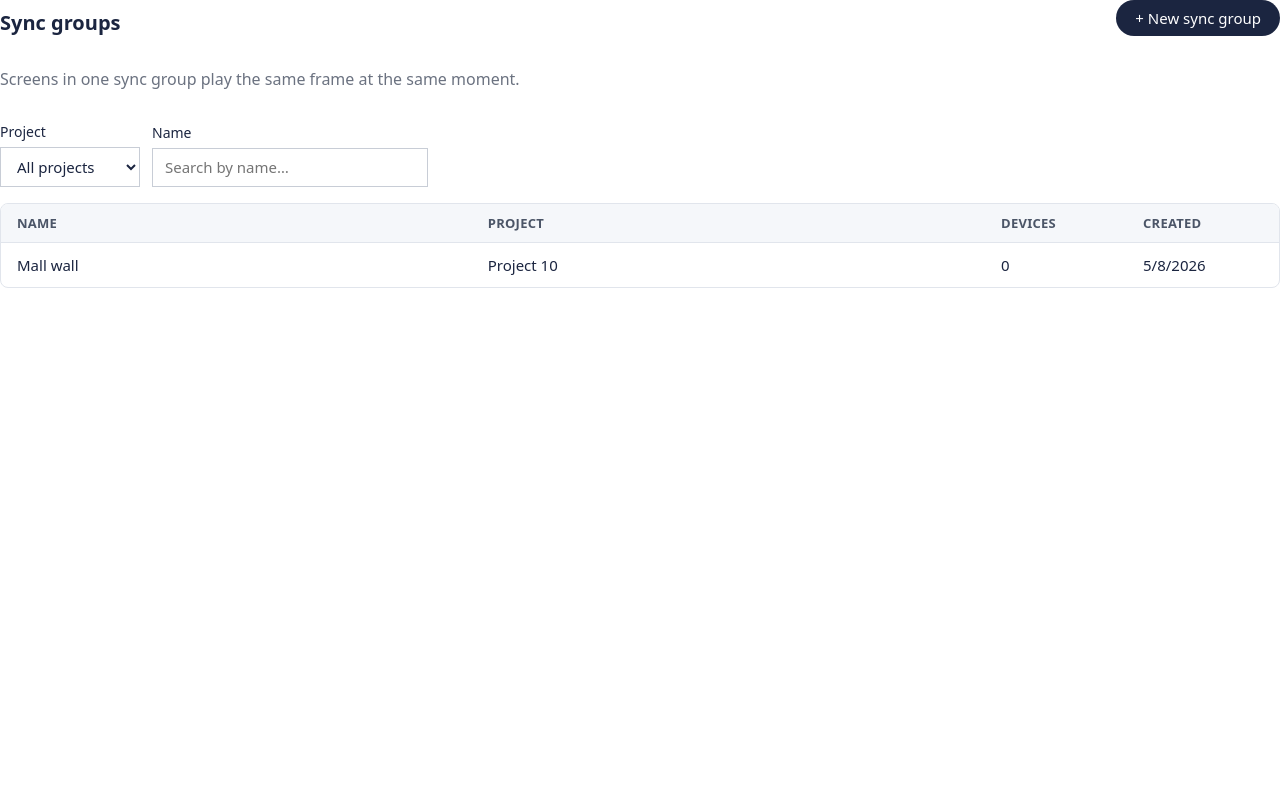
Test: SyncGroupsPage › add-devices picker sends syncUnassigned=true and drops non-null-syncGroupId rows
Click the text "Mall wall" at (48, 265), box [1,242,472,287]
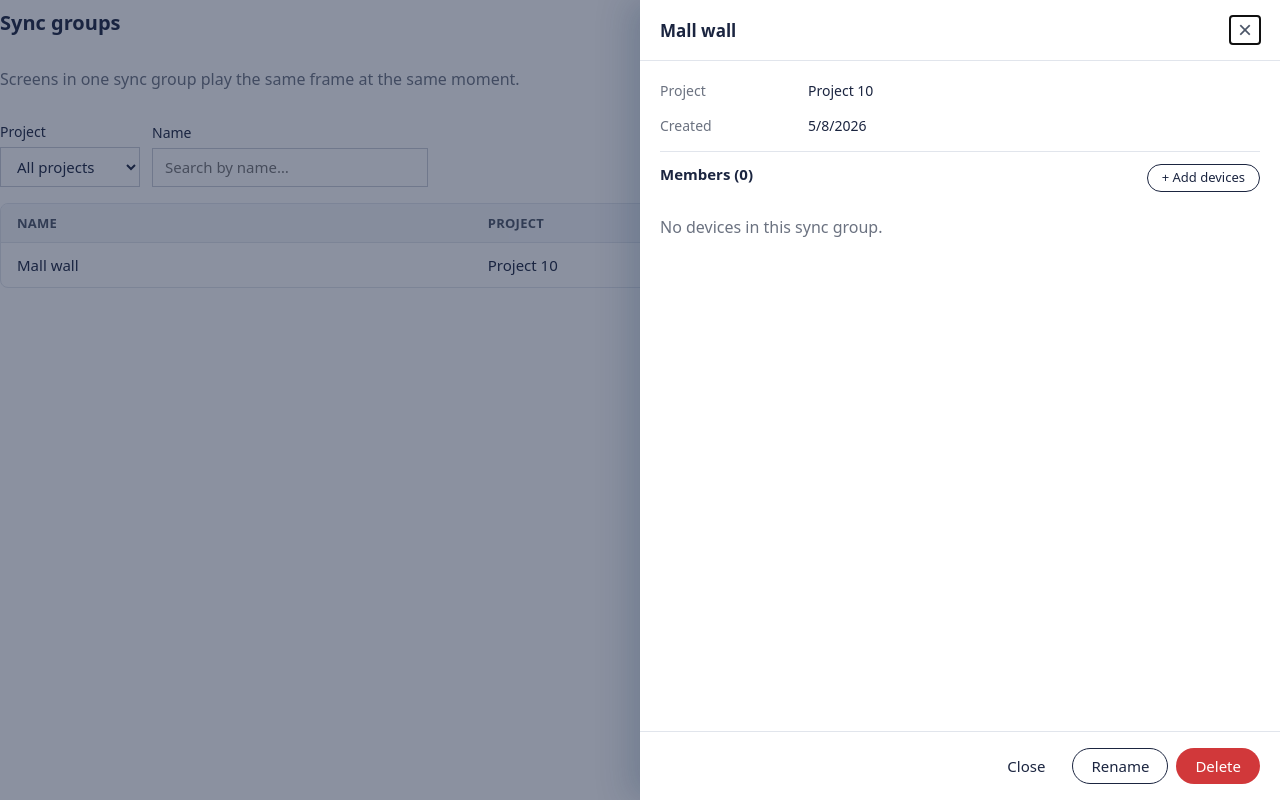
Click the button "+ Add devices" at (1203, 178), box [1147,164,1260,192]
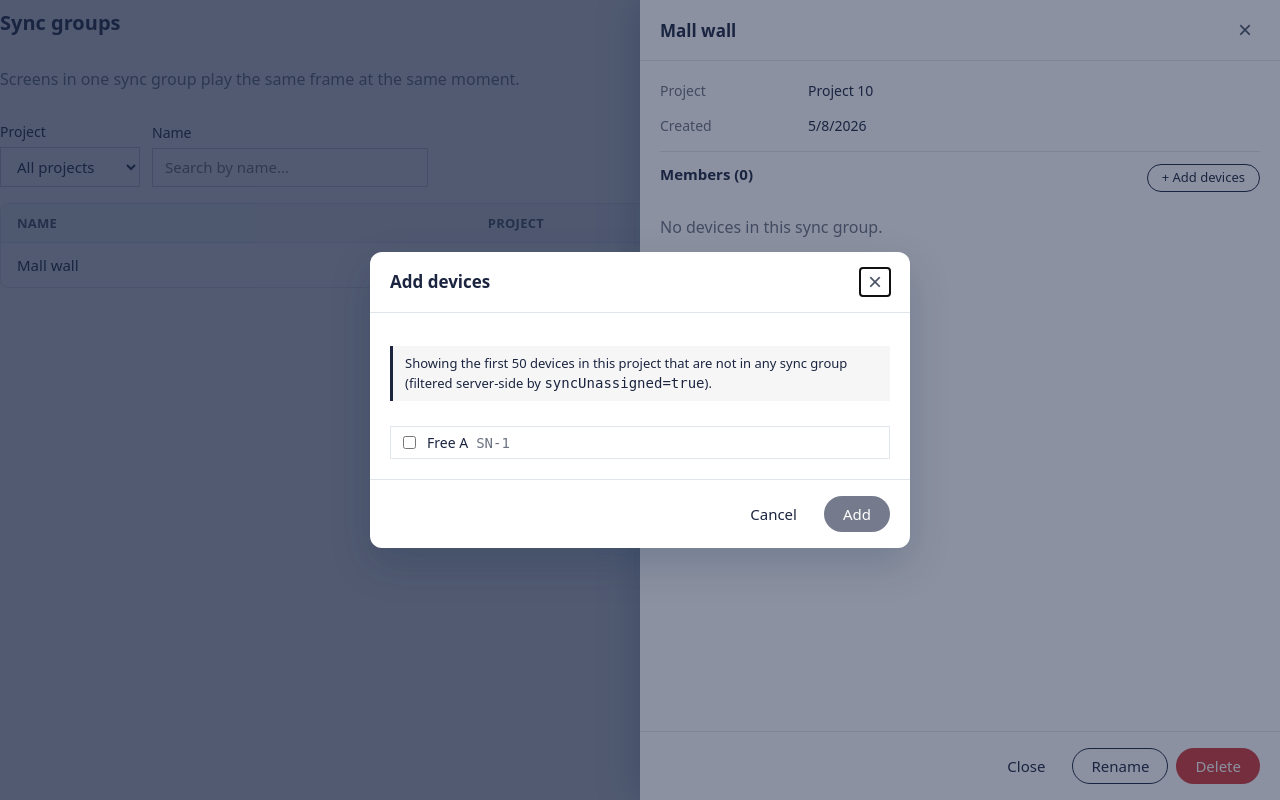
Expected: the text "Free A" is shown, [427,433,468,452]
